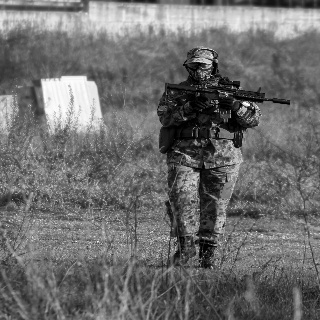rifle: (164, 77, 292, 106)
